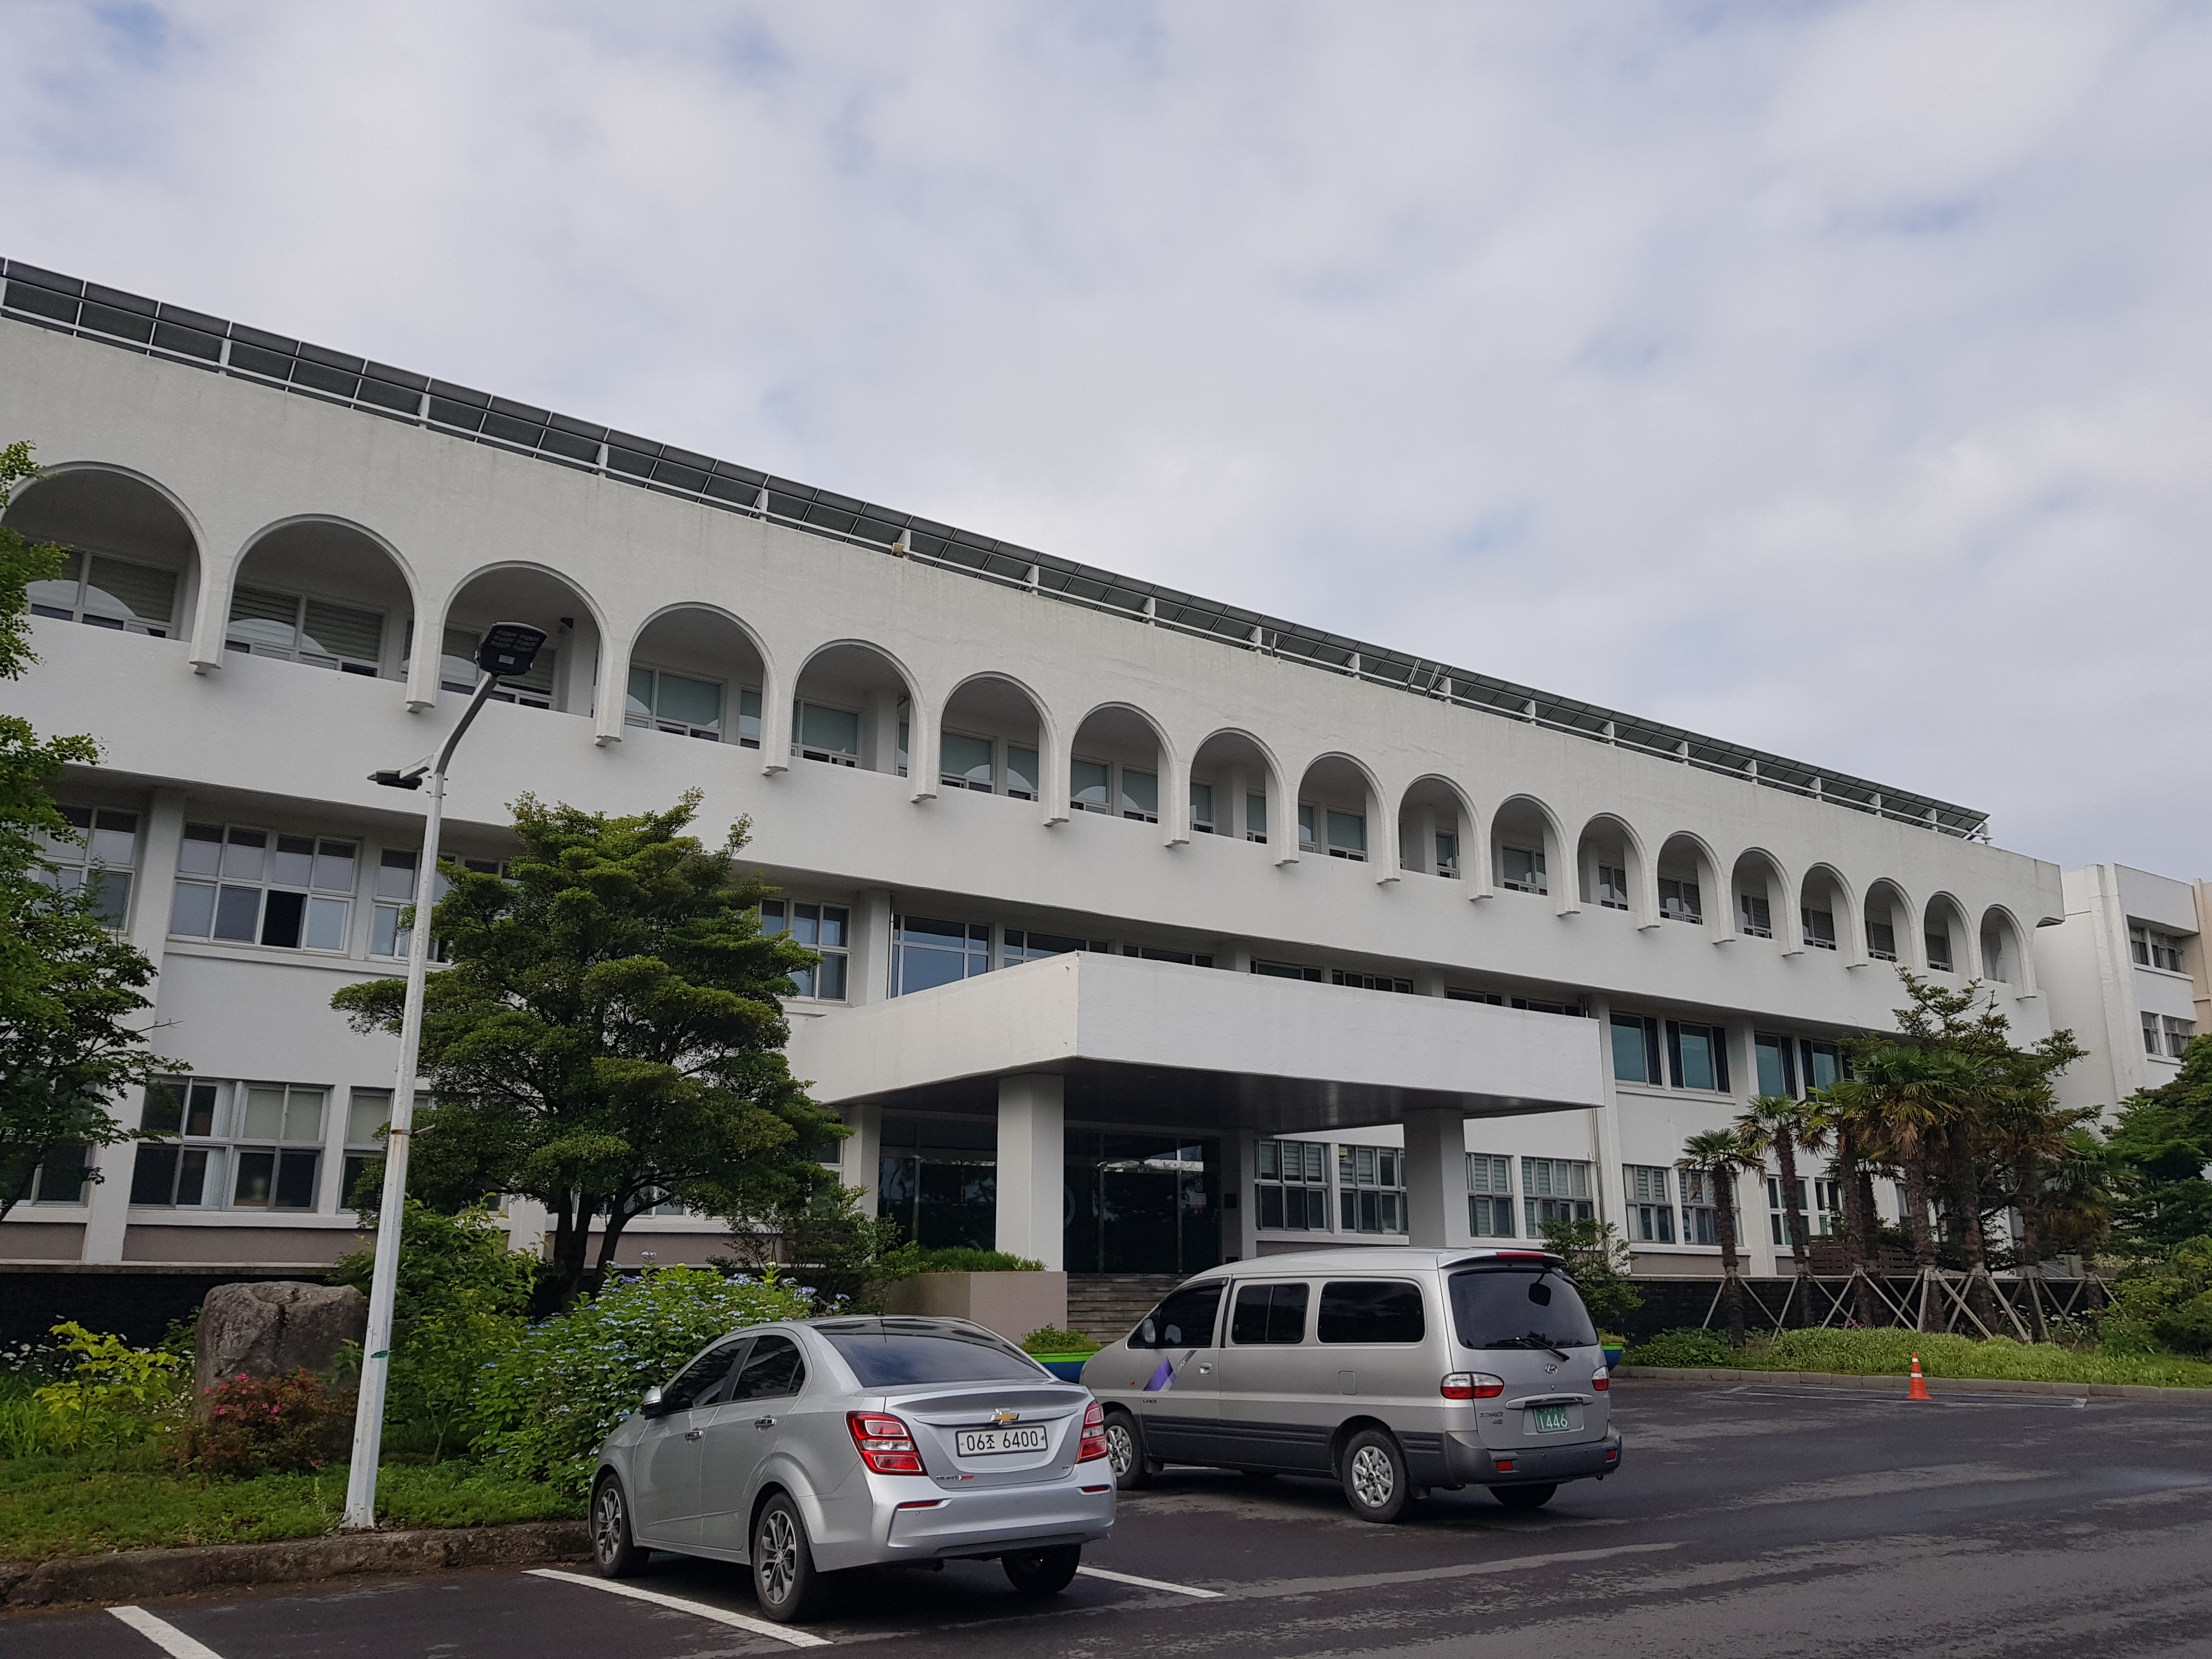Main Building of University: (103, 328, 2047, 1297), (143, 511, 2029, 1016), (725, 915, 1618, 1244)
